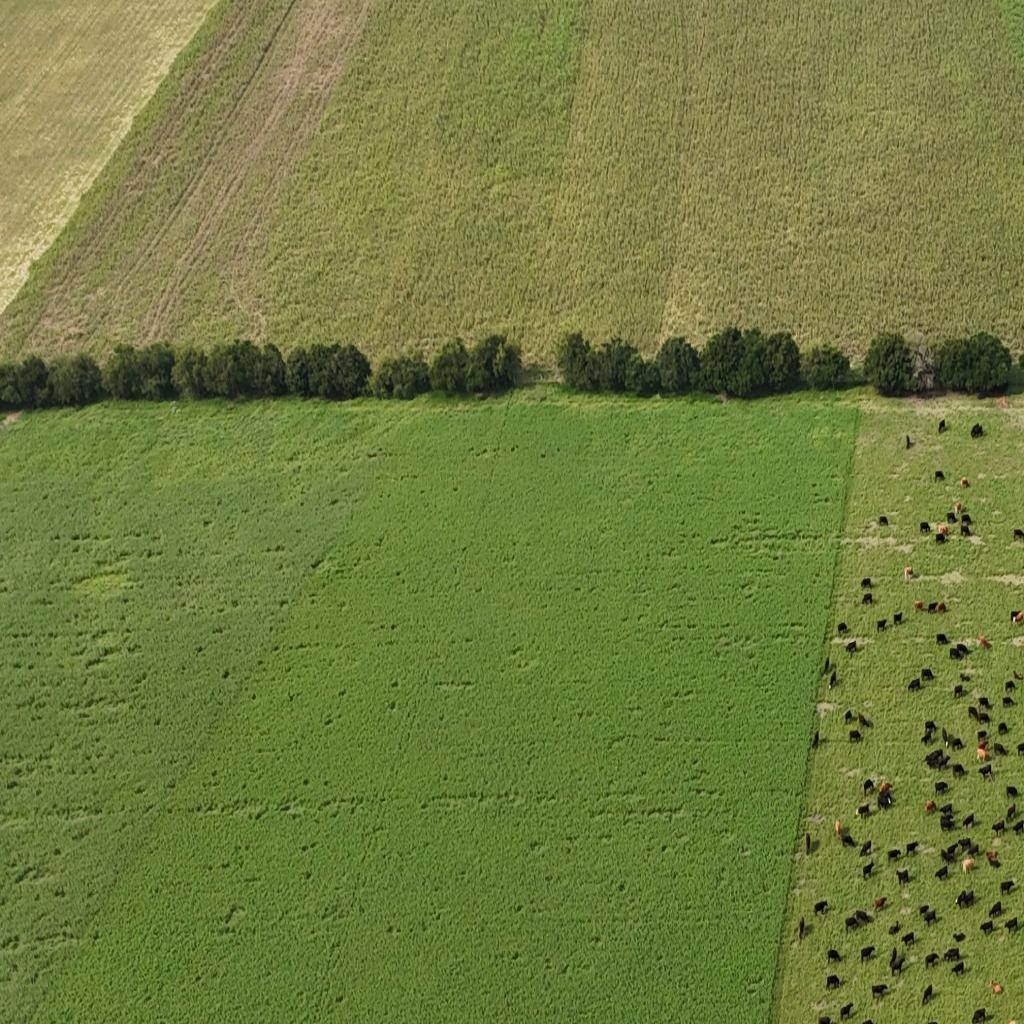cow: (907, 670, 938, 694), (1004, 911, 1024, 939), (889, 946, 905, 976), (857, 835, 877, 858), (866, 863, 886, 885), (924, 749, 946, 769), (955, 888, 974, 910), (885, 843, 904, 862), (871, 982, 889, 1002), (878, 785, 893, 809), (940, 844, 958, 864), (939, 805, 954, 829), (1006, 808, 1020, 833), (936, 468, 954, 487), (950, 643, 970, 660), (921, 907, 938, 926), (942, 727, 957, 748), (845, 913, 862, 931), (944, 946, 962, 963), (806, 830, 818, 854), (860, 945, 876, 963), (839, 1002, 854, 1021), (900, 931, 916, 948), (833, 628, 849, 645), (1000, 880, 1016, 897), (972, 1008, 988, 1024), (840, 832, 856, 848), (979, 764, 994, 781), (968, 706, 983, 723), (959, 837, 974, 854), (922, 984, 934, 1005), (896, 868, 910, 886), (990, 820, 1004, 838), (814, 900, 829, 916), (827, 948, 842, 964), (989, 980, 1004, 996), (826, 974, 841, 990), (925, 952, 940, 968), (857, 909, 873, 924), (920, 728, 935, 744), (975, 718, 990, 734), (856, 802, 870, 819), (935, 864, 949, 881), (966, 841, 980, 858), (987, 852, 1001, 869), (862, 778, 875, 796), (978, 696, 993, 711), (934, 781, 949, 796), (952, 960, 966, 976), (988, 902, 1002, 918), (962, 813, 976, 829), (1009, 610, 1023, 626), (952, 762, 966, 778), (933, 519, 949, 533), (962, 856, 974, 874), (924, 720, 936, 738), (920, 667, 934, 682), (905, 841, 919, 856), (950, 736, 964, 751), (858, 712, 871, 728), (981, 919, 994, 935), (1005, 784, 1018, 800), (862, 862, 874, 879), (994, 742, 1008, 756), (976, 746, 988, 762), (845, 640, 858, 654), (971, 424, 984, 438), (849, 729, 862, 743), (888, 923, 901, 937), (936, 633, 949, 646), (1002, 695, 1015, 708), (874, 896, 886, 910), (979, 635, 991, 649), (908, 679, 920, 693), (935, 531, 947, 545), (960, 670, 972, 684), (799, 916, 805, 942), (986, 849, 999, 861), (1004, 680, 1016, 693), (953, 932, 966, 944), (960, 522, 971, 536), (998, 721, 1009, 735), (954, 684, 965, 698), (828, 669, 836, 688), (861, 594, 873, 606), (861, 576, 873, 588), (928, 601, 940, 613), (823, 658, 832, 674), (960, 512, 972, 524), (925, 800, 936, 813), (876, 619, 887, 632), (818, 1014, 832, 1024), (812, 730, 819, 749), (946, 512, 957, 524), (904, 566, 914, 579), (894, 612, 903, 626), (960, 476, 970, 488), (838, 623, 848, 635), (920, 522, 930, 534), (844, 710, 854, 722), (1017, 818, 1024, 835), (835, 819, 841, 838), (956, 502, 963, 518), (1016, 785, 1024, 799), (934, 470, 944, 481), (878, 515, 888, 526), (914, 600, 924, 611), (936, 602, 947, 612), (1017, 610, 1024, 625), (938, 419, 946, 432), (1017, 528, 1024, 540), (906, 435, 912, 449), (924, 1018, 938, 1024), (862, 1018, 874, 1024), (1019, 742, 1024, 756), (1018, 670, 1024, 681)
